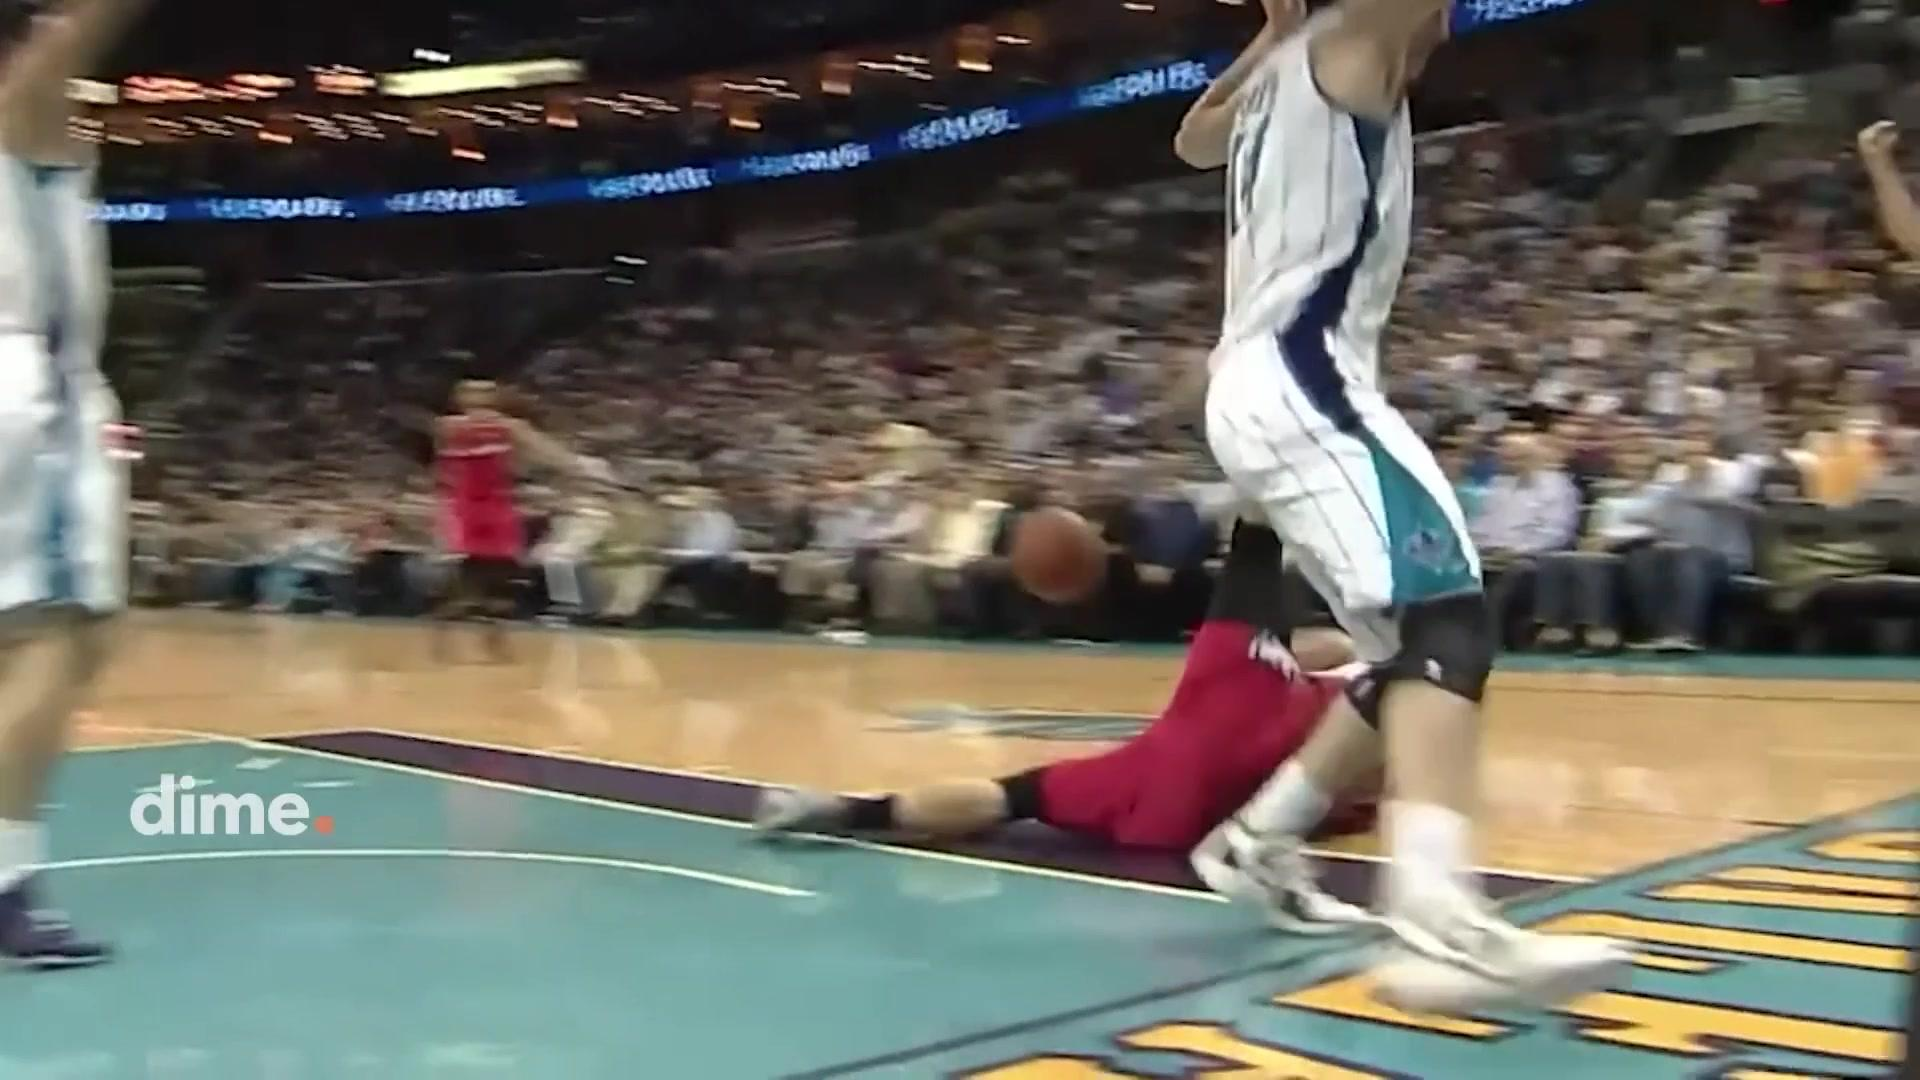foul: (1011, 70, 1596, 997)
